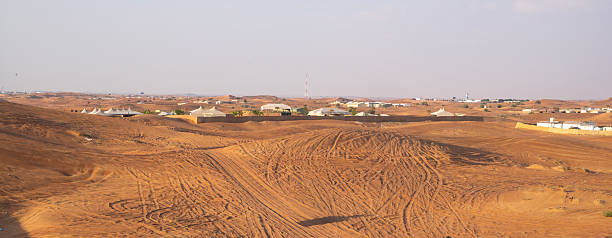vehicle_track: (109, 128, 479, 236), (239, 129, 473, 235)
